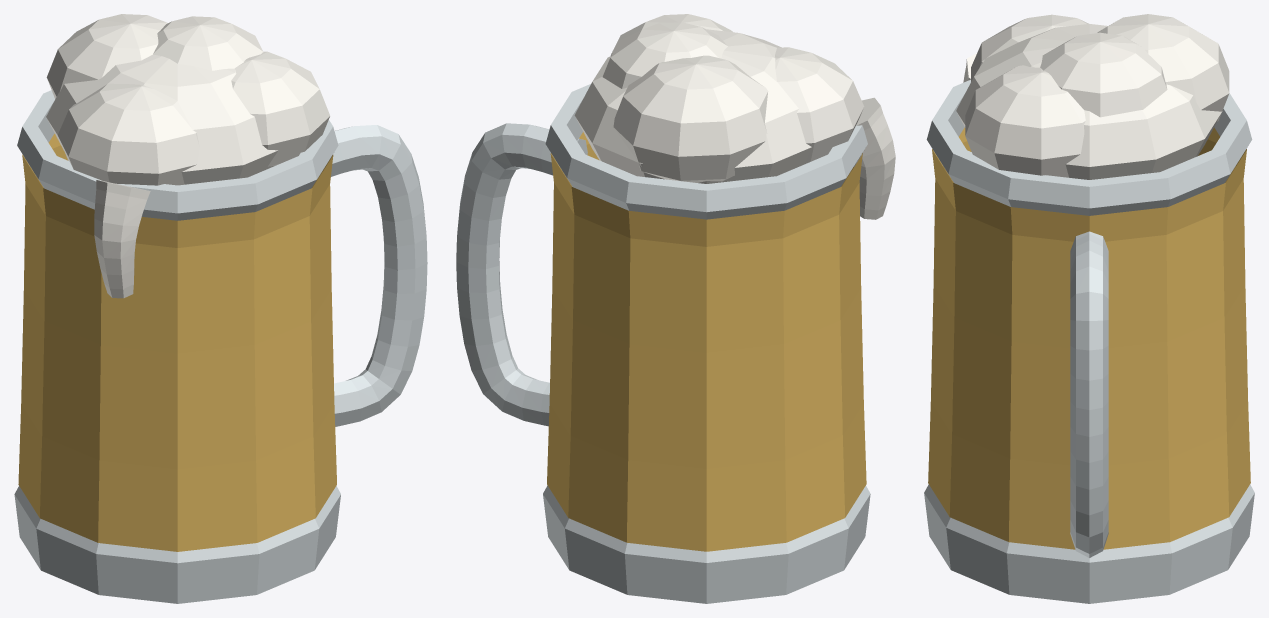
File: beer-mug.glb
The picture shows the model from 3 angles, left to right: view 1: azimuth 30°, elevation 25°; view 2: azimuth 150°, elevation 25°; view 3: azimuth 270°, elevation 25°; orthographic projection.
Parts seen in each view (by area): view 1: beer-mug; view 2: beer-mug; view 3: beer-mug.
Part boxes in pixels (box(x1,y1,x2,y2)): beer-mug: box(14, 14, 427, 603); beer-mug: box(456, 14, 895, 603); beer-mug: box(924, 14, 1254, 603).
Bounding box in the file's own units: 0.8152 × 1 × 0.5905.
